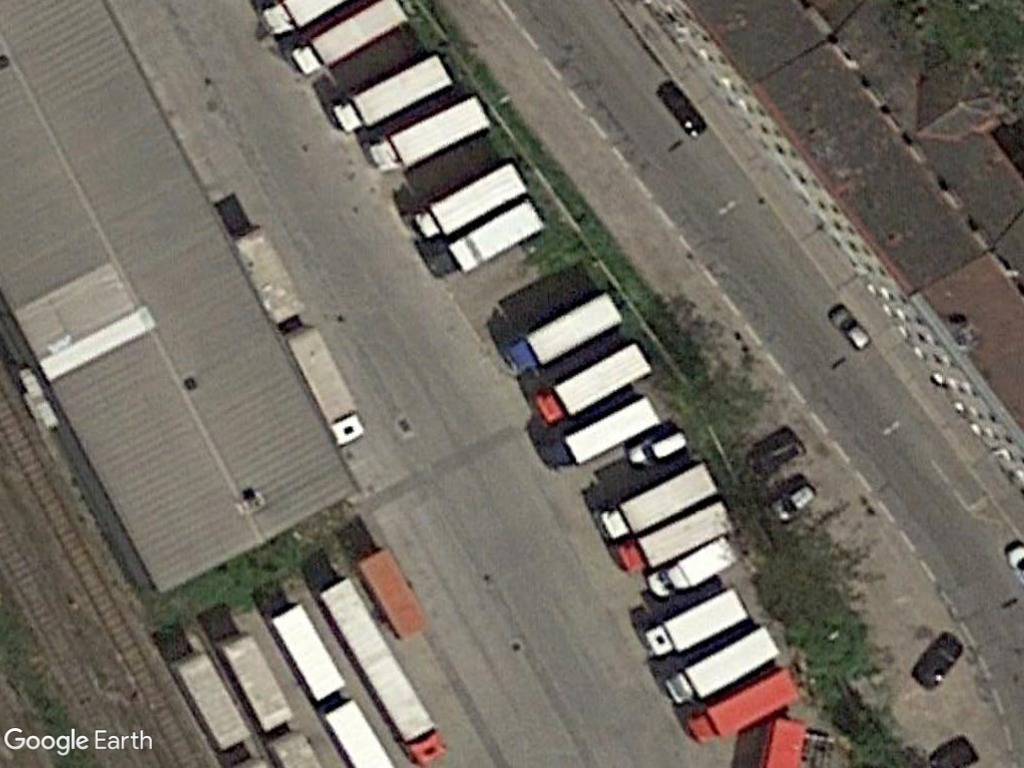car: (625, 421, 694, 476), (823, 297, 876, 357), (765, 478, 820, 526)
longvehicle: (313, 566, 449, 768)
truck: (324, 46, 458, 142), (526, 336, 658, 430), (361, 91, 496, 182), (275, 320, 369, 450), (593, 452, 723, 543), (498, 289, 629, 378), (404, 156, 530, 247), (658, 621, 784, 710), (426, 197, 555, 282), (678, 662, 802, 749), (284, 0, 414, 81), (612, 495, 736, 573), (542, 394, 661, 472), (639, 582, 748, 660), (645, 531, 739, 602)
